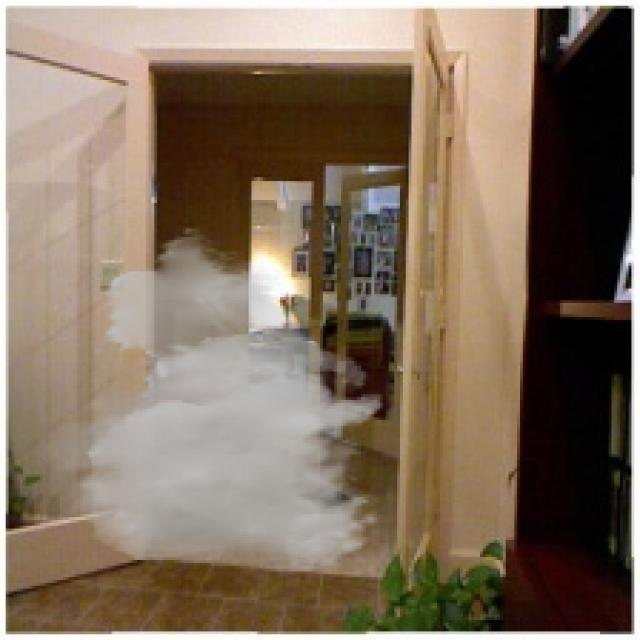smoke: (28, 226, 386, 574)
